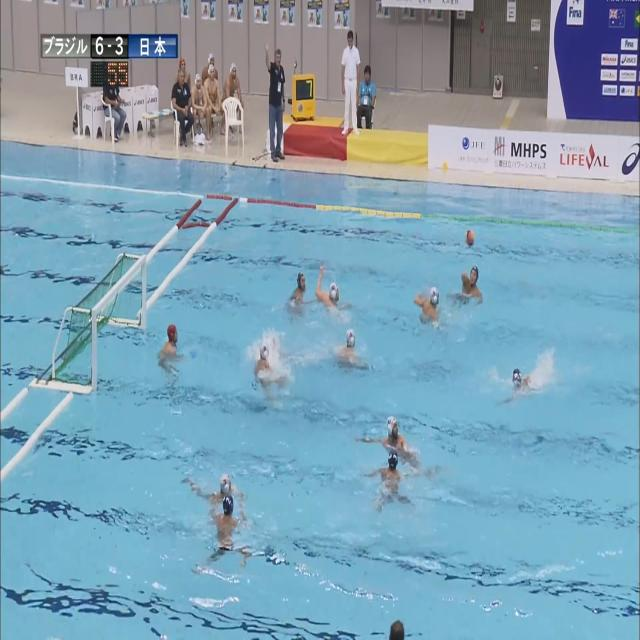ball: (466, 230, 474, 246)
